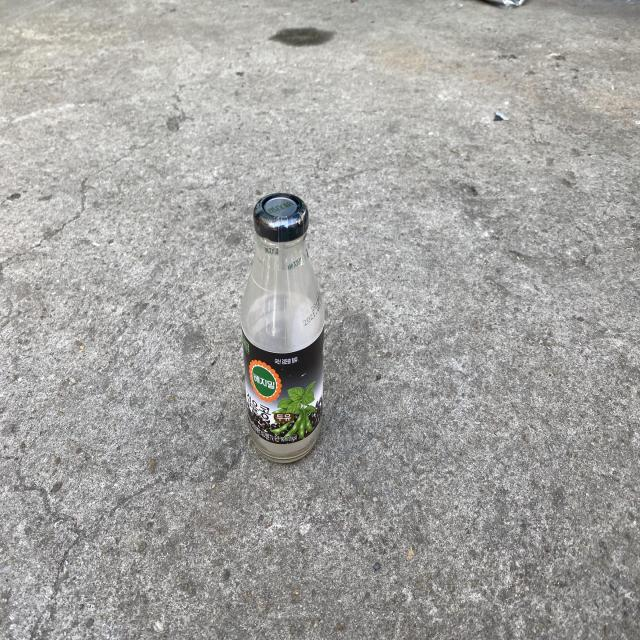glass: (242, 193, 325, 462)
